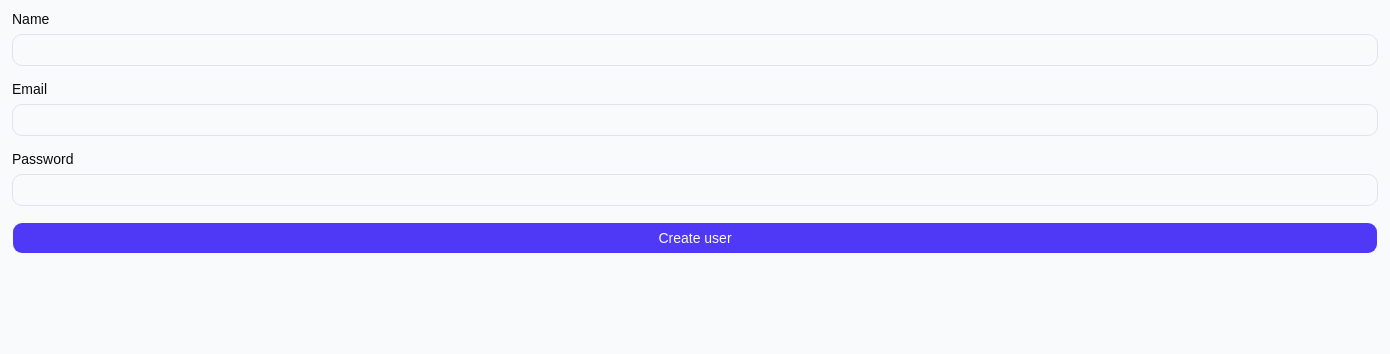
Scenario: UserForm › validation › requires every field when submitted empty
The width and height of the screenshot is (1390, 354).
Click the button "Create user" at coordinates (695, 238), box top-left (12, 222), bottom-right (1378, 254)
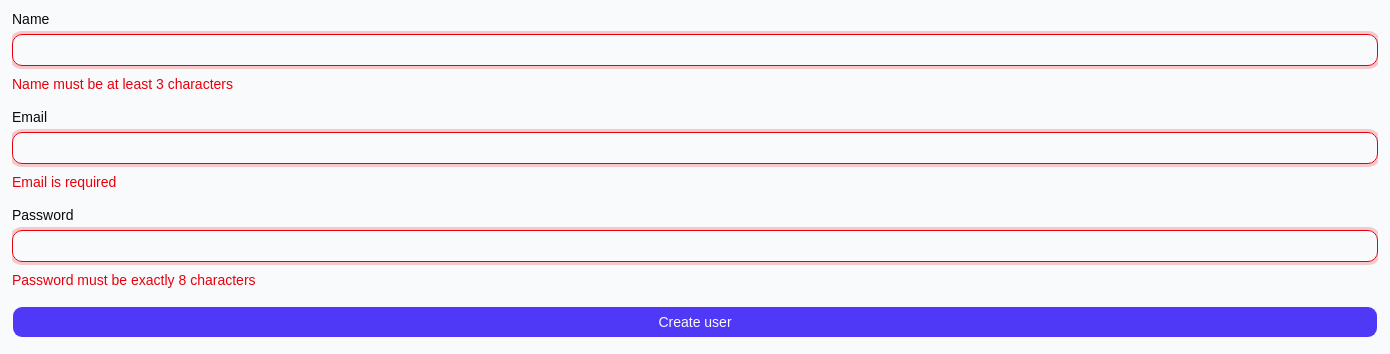
Expected: the text "Name must be at least 3 characters" is shown, top-left (12, 76), bottom-right (233, 92)
Expected: the text "Email is required" is shown, top-left (12, 174), bottom-right (116, 190)
Expected: the text "Password must be exactly 8 characters" is shown, top-left (12, 272), bottom-right (256, 288)
